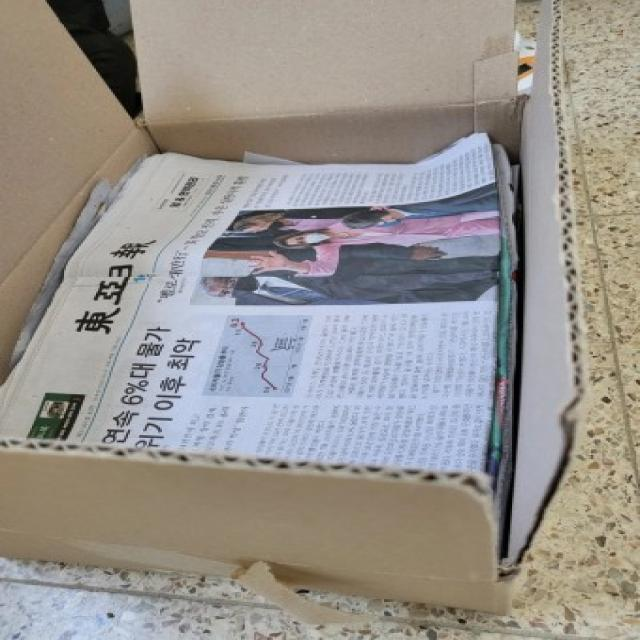Newspaper: (6, 128, 497, 475)
